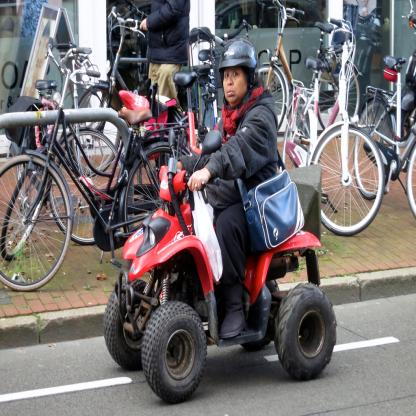Helmet: (220, 37, 260, 103)
